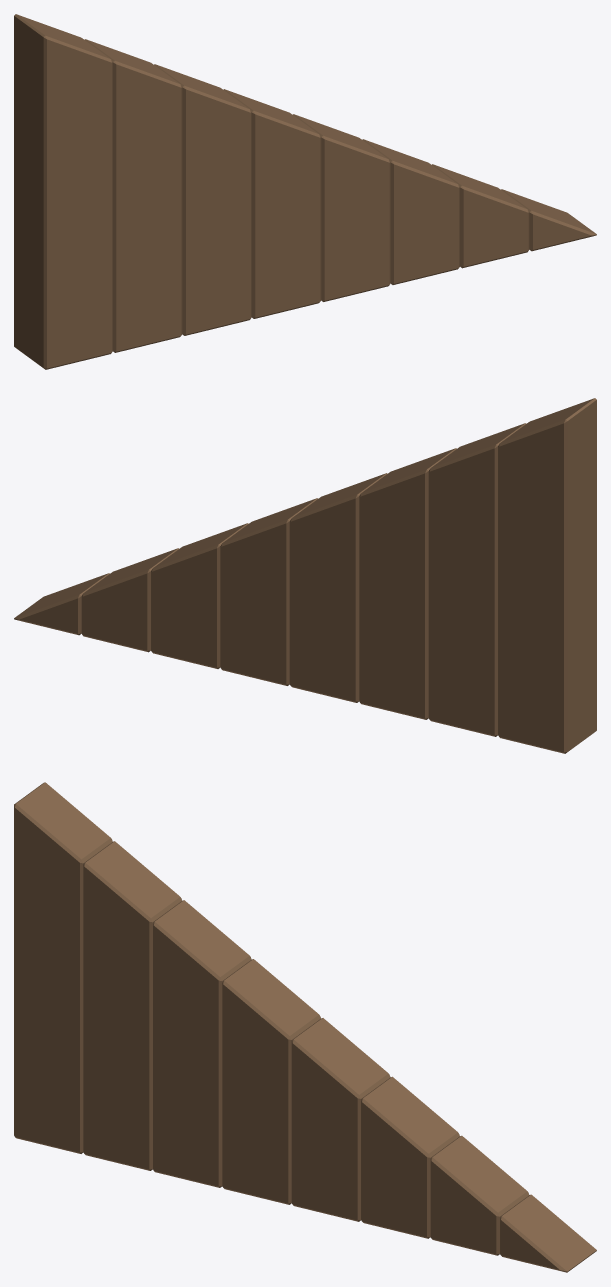
File: SM_Wall_Gable_30_Half.fbx
3 renders of one model, top to bottom at view 1: azimuth 30°, elevation 25°; view 2: azimuth 150°, elevation 25°; view 3: azimuth 330°, elevation 25°, orthographic.
Parts seen in each view (by area): view 1: SM_Wall_Gable_30_Half; view 2: SM_Wall_Gable_30_Half; view 3: SM_Wall_Gable_30_Half.
Boxes of the visible parts, x1,y1,x2,y2 form: SM_Wall_Gable_30_Half: [14, 14, 596, 369]; SM_Wall_Gable_30_Half: [14, 398, 596, 753]; SM_Wall_Gable_30_Half: [14, 782, 596, 1272].
Size of the model in its own units: 1.99 by 1.15 by 0.2.
